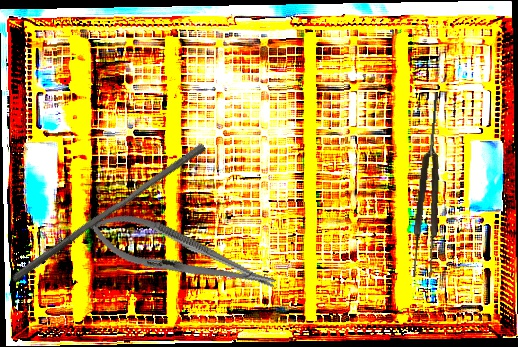Needle Holder: (83, 202, 282, 308)
Pusher: (10, 135, 207, 291)
Tissue Forceps: (409, 92, 450, 279)
